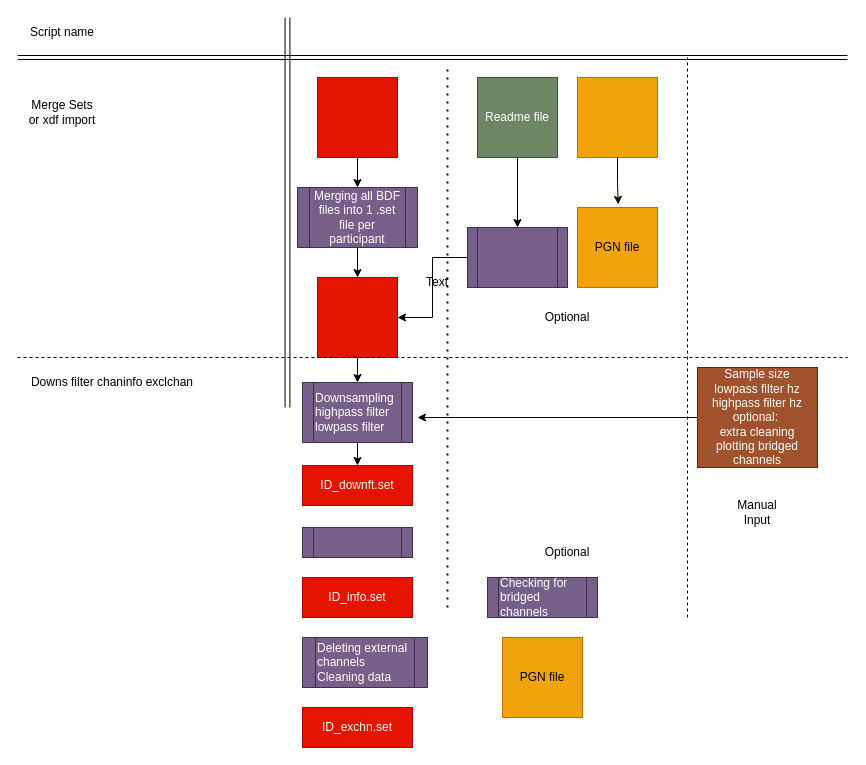
Some shapes in this 866 by 765 pixel diagram are drawn without their labels. The shapes that lost their labels are listed below. From the top down, each one's centre as x and y in pixels, then its label:
At (x=357, y=117): "EEG file (.bdf or .xdf)".
At (x=617, y=117): "Eye tracking file".
At (x=517, y=257): "Reading from the text file and transforming it".
At (x=357, y=317): "ID.set".
At (x=357, y=542): "Adding channel location".
